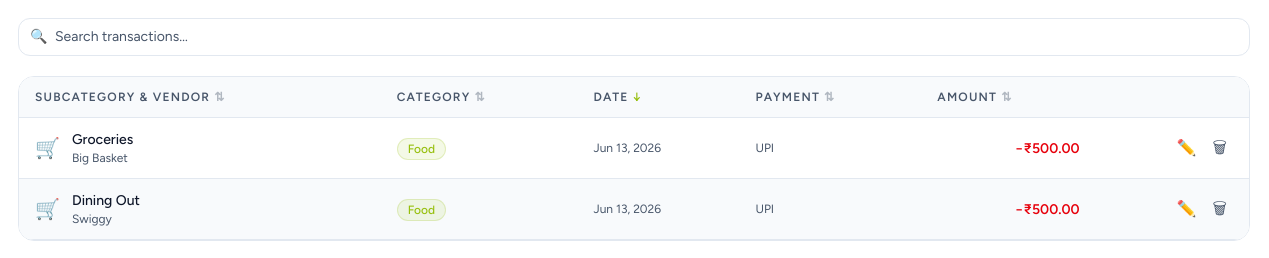
it: TransactionList › filters transactions by search query
Type "basket" into the search field with placeholder "Search transactions…" at (634, 37), box [18,18,1250,56]
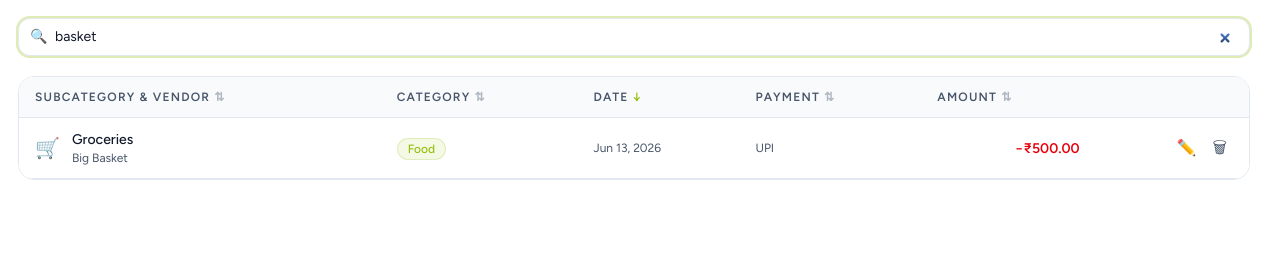
Check: the text "Big Basket" is shown, box [72,150,133,166]
Check: the text "Swiggy" is gone
